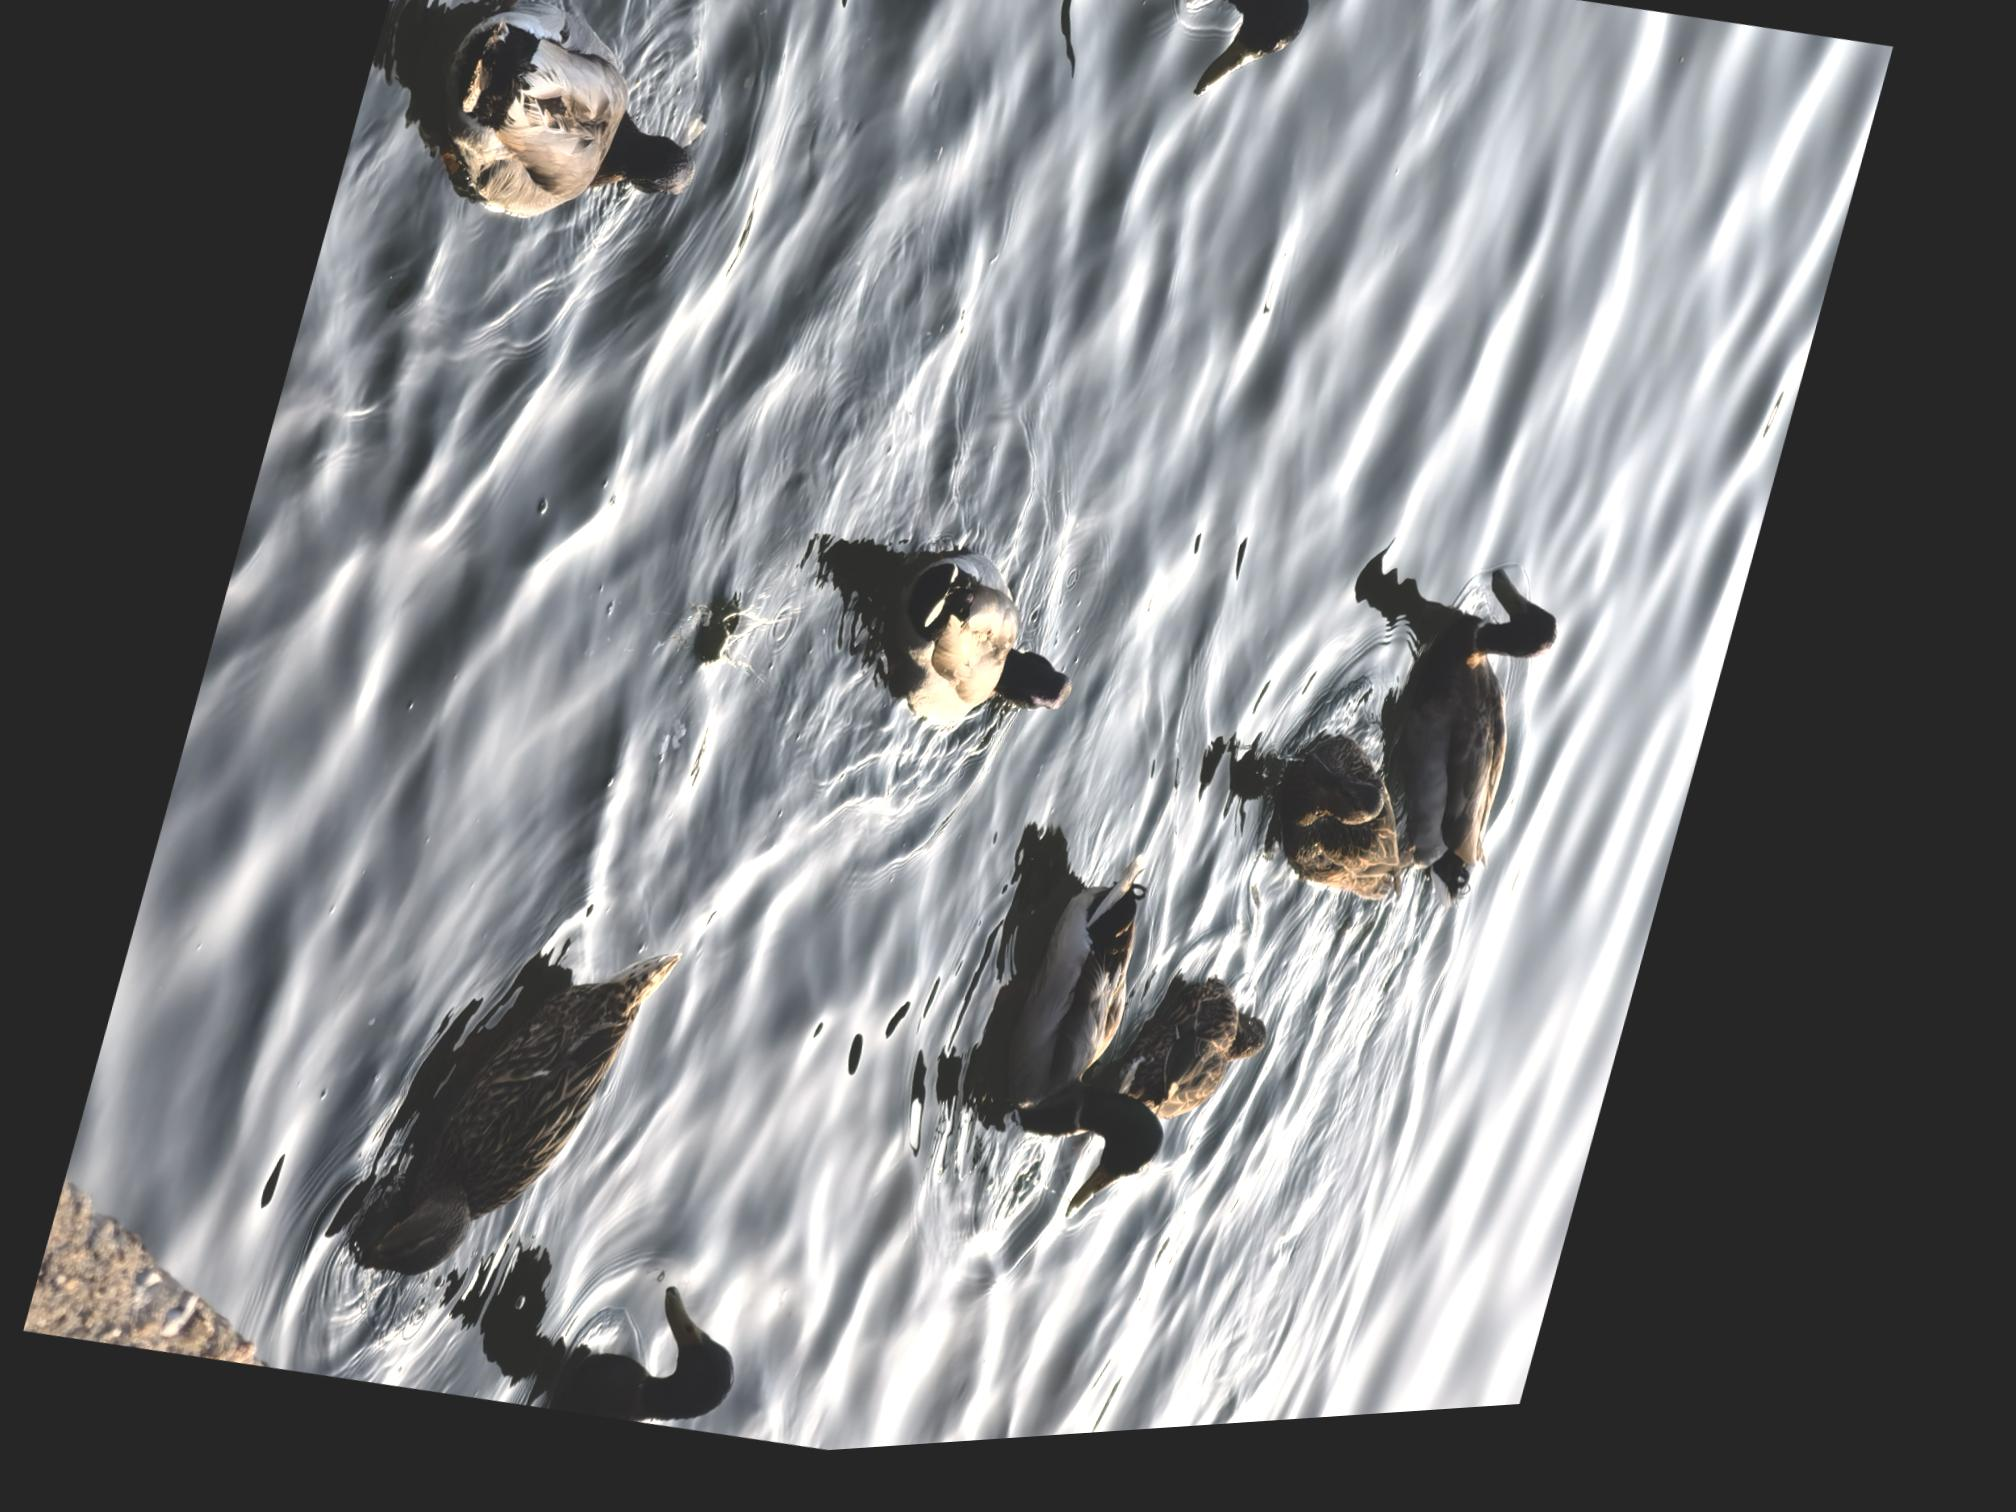duck: (378, 901, 711, 1332), (393, 0, 754, 280), (992, 877, 1253, 1245), (1345, 565, 1594, 933), (877, 548, 1135, 780), (1249, 713, 1471, 953), (540, 1264, 777, 1456), (1137, 965, 1325, 1153), (1153, 0, 1335, 137)
